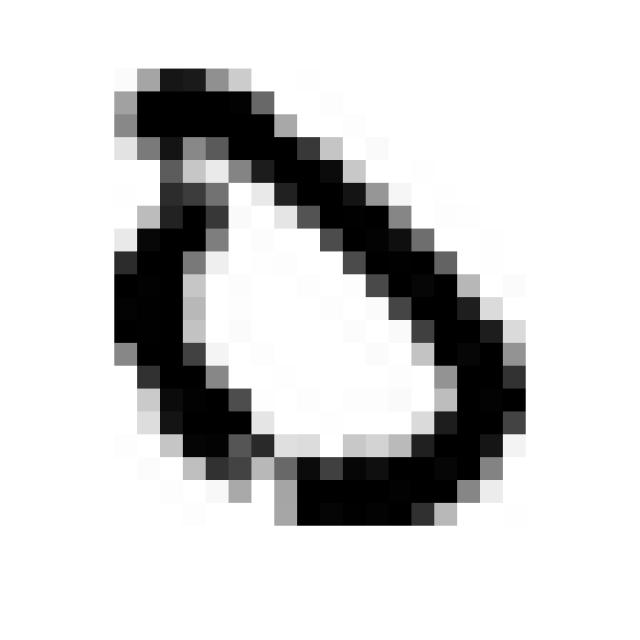5 -five-: (80, 51, 542, 542)
